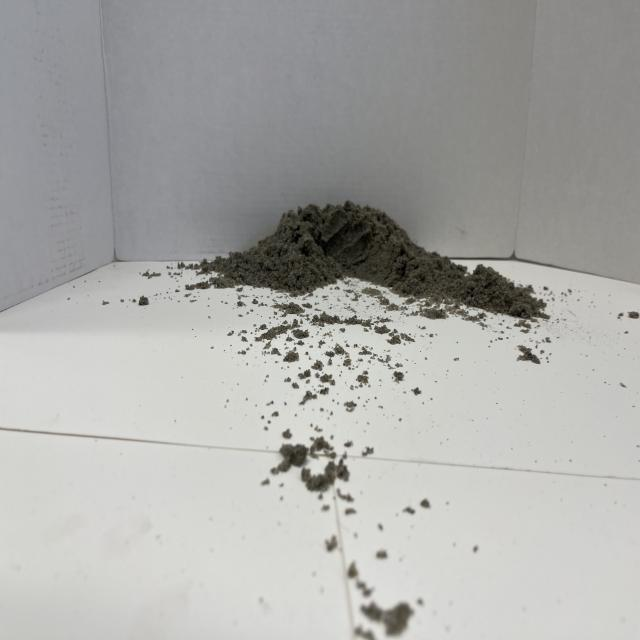sand: (221, 185, 530, 315)
